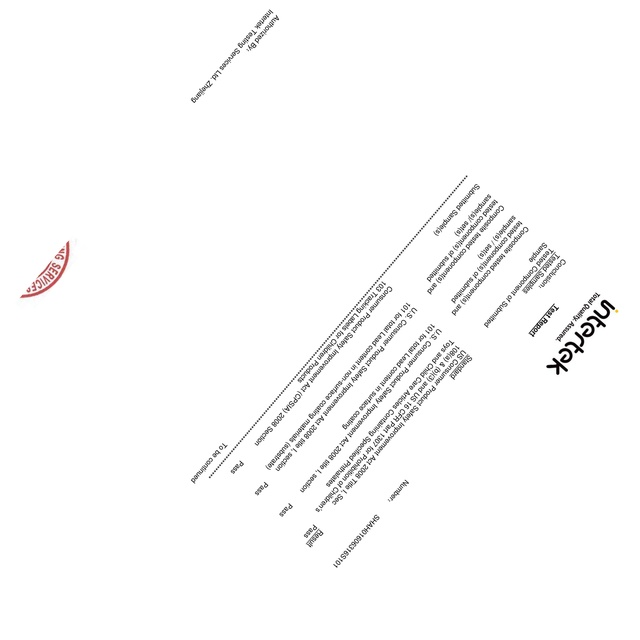intertek: (544, 293, 620, 380)
